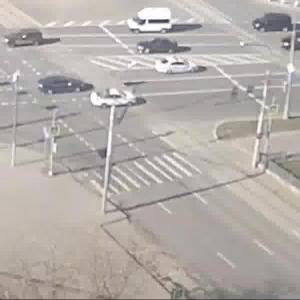car: (125, 4, 173, 32), (3, 25, 45, 51), (39, 74, 85, 95), (92, 90, 136, 108), (254, 17, 292, 35), (157, 58, 202, 72), (139, 38, 180, 52)
